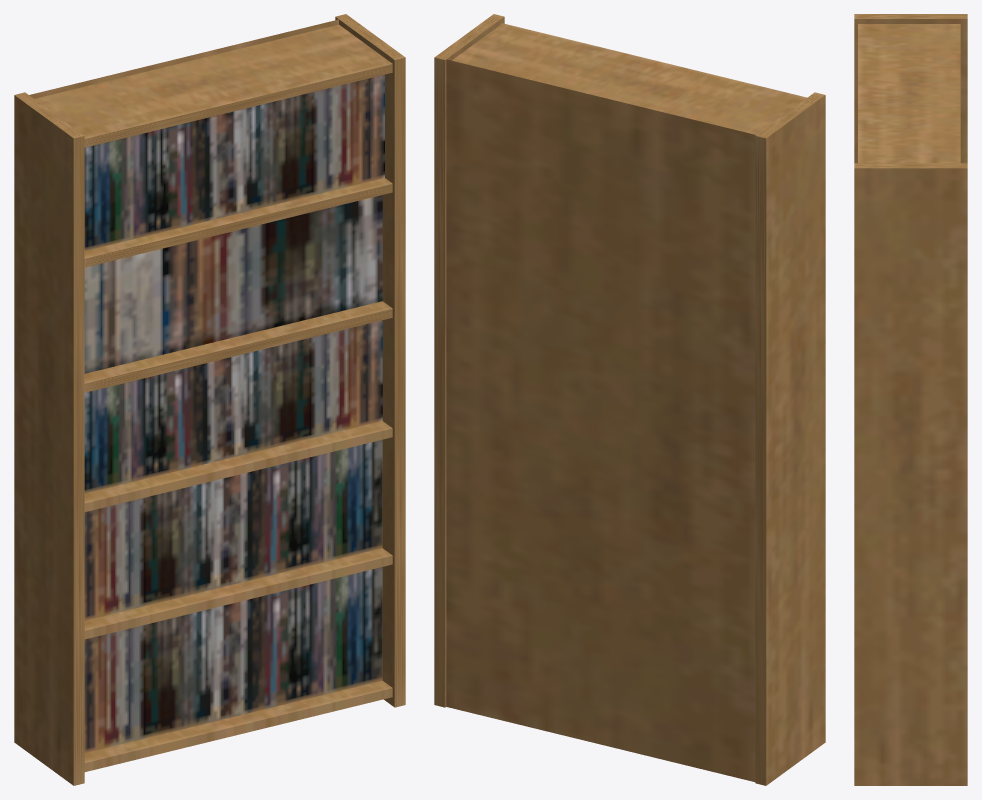
File: BookShelf2.glb
The picture shows the model from 3 angles, left to right: view 1: azimuth 30°, elevation 25°; view 2: azimuth 150°, elevation 25°; view 3: azimuth 270°, elevation 25°; orthographic projection. The views are drawn at different scales.
Parts seen in each view (by area): view 1: BOOKSHELF2; view 2: BOOKSHELF2; view 3: BOOKSHELF2.
Part boxes in pixels (x1=…): BOOKSHELF2: x1=14, y1=14, x2=405, y2=785; BOOKSHELF2: x1=434, y1=14, x2=825, y2=785; BOOKSHELF2: x1=854, y1=14, x2=967, y2=785.
Bounding box in the file's own units: 1.07 × 2 × 0.332.
1 material, 1 textured.
